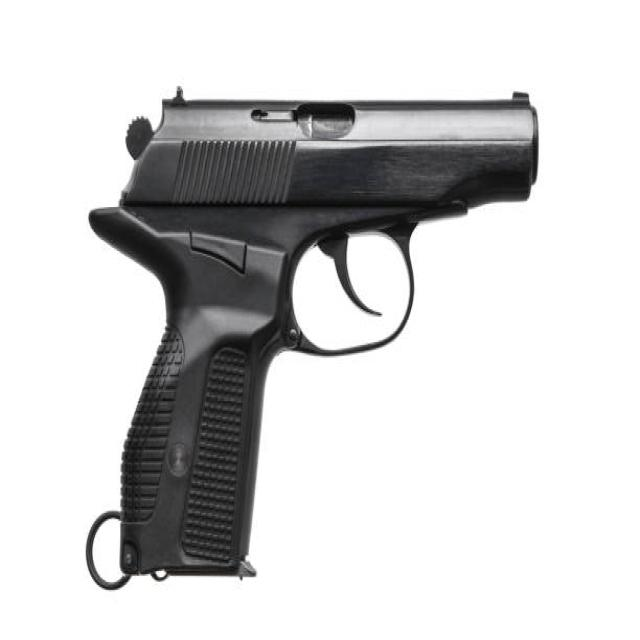pistol: (82, 77, 544, 596)
